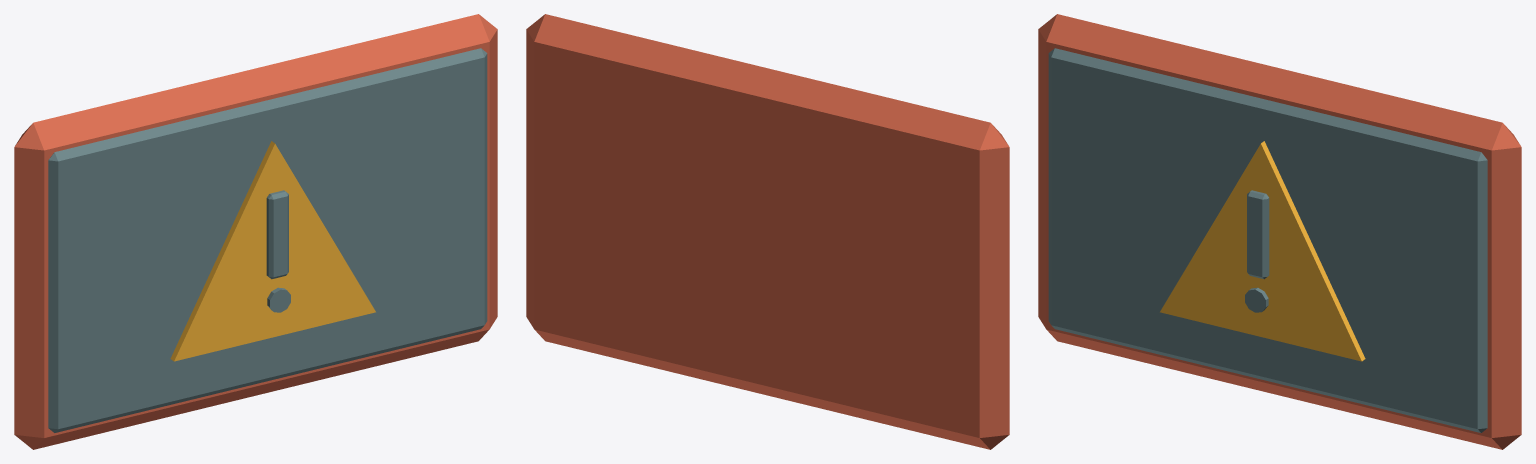
The model's file is Signs-OutOfService.fbx.
3 renders of one model, left to right at view 1: azimuth 30°, elevation 25°; view 2: azimuth 150°, elevation 25°; view 3: azimuth 330°, elevation 25°, orthographic.
Parts seen in each view (by area): view 1: Inset Face, Plaque, Warning Triangle, Exclamation Stem, Exclamation Dot; view 2: Plaque; view 3: Inset Face, Plaque, Warning Triangle, Exclamation Stem, Exclamation Dot.
Part boxes in pixels (box(x1,y1,x2,y2)): Inset Face: box(48, 48, 487, 432); Plaque: box(14, 14, 497, 449); Warning Triangle: box(170, 141, 375, 361); Exclamation Stem: box(266, 190, 288, 279); Exclamation Dot: box(267, 287, 290, 312); Plaque: box(526, 14, 1009, 449); Inset Face: box(1048, 48, 1487, 432); Plaque: box(1038, 14, 1521, 449); Warning Triangle: box(1160, 141, 1365, 361); Exclamation Stem: box(1247, 190, 1269, 279); Exclamation Dot: box(1245, 287, 1268, 312).
Bounding box in the file's own units: 0.306 × 0.198 × 0.039.
